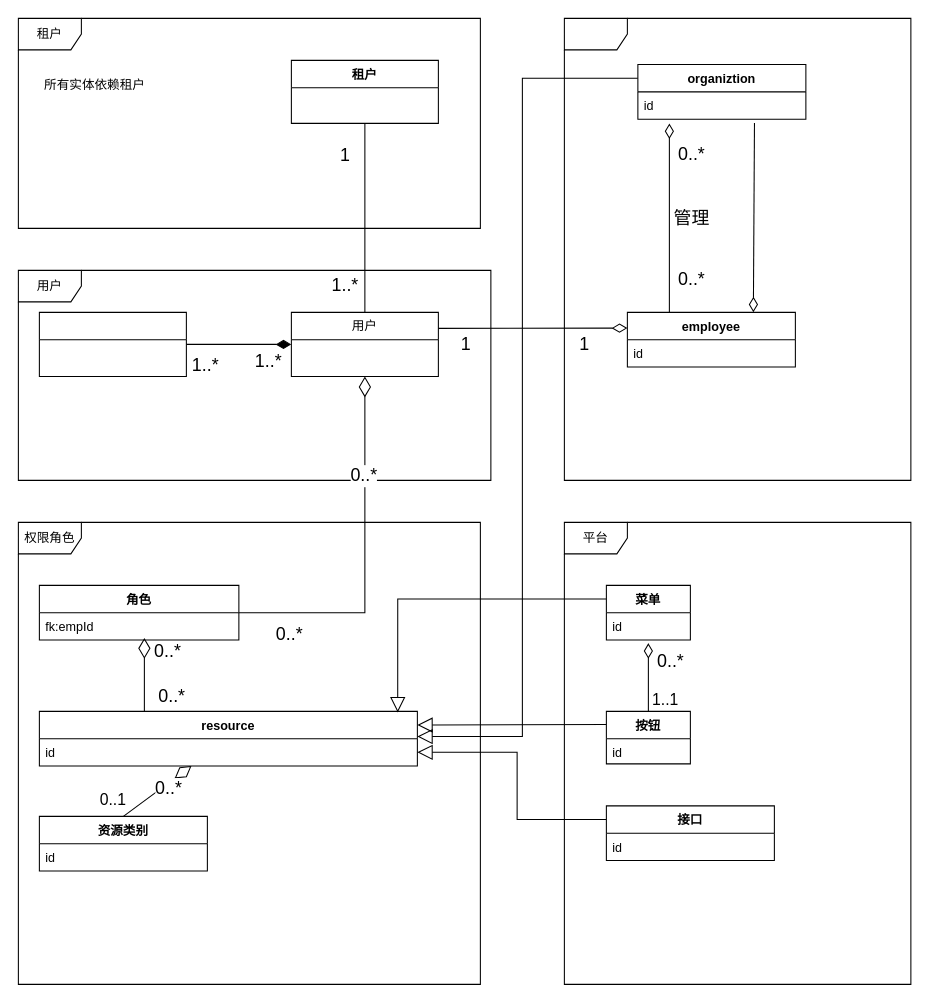
Image size: 929x1003. Some labels were removed from this diagram. Here are the shapes that lost their labels. From the top down, the centre of each, then its label:
At (x=737, y=248): "组织".
At (x=112, y=343): "用户名".
